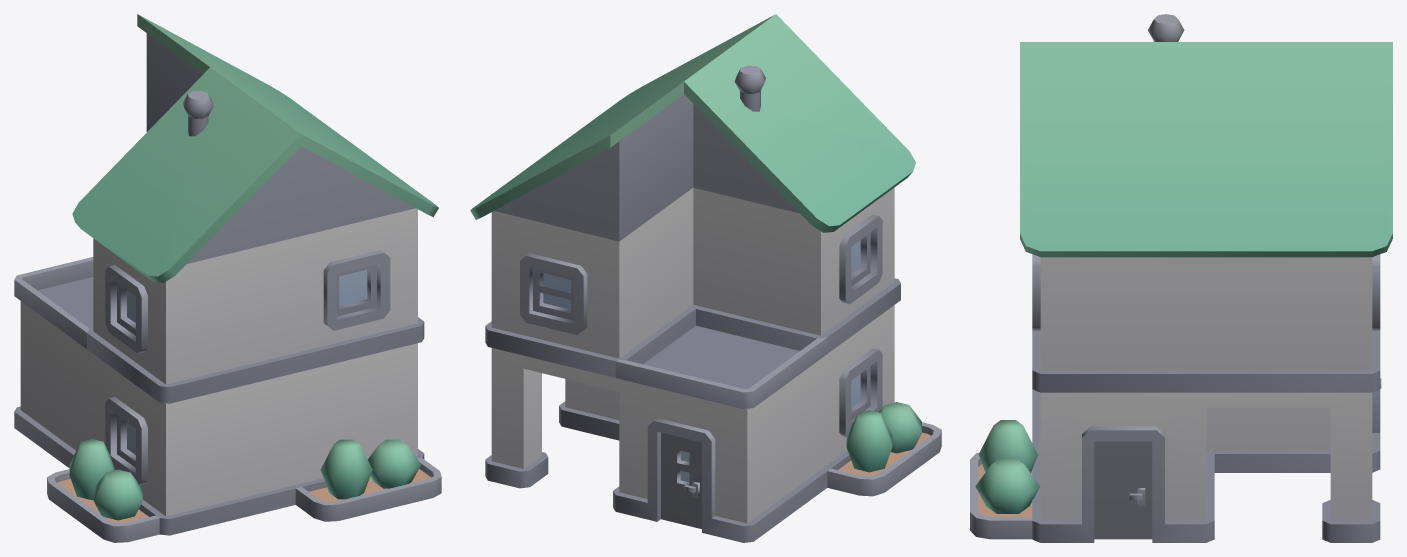
File: building-type-r.glb
3 views of the same model, side by side, from view 1: azimuth 30°, elevation 25°; view 2: azimuth 150°, elevation 25°; view 3: azimuth 270°, elevation 25° (orthographic). The views are drawn at different scales.
Parts seen in each view (by area): view 1: building-type-r; view 2: building-type-r; view 3: building-type-r.
Boxes of the visible parts, <box> form: building-type-r: <box>14,14,441,542</box>; building-type-r: <box>470,14,941,542</box>; building-type-r: <box>970,14,1392,542</box>.
Bounding box in the file's own units: 1.03 × 1.14 × 1.02.
